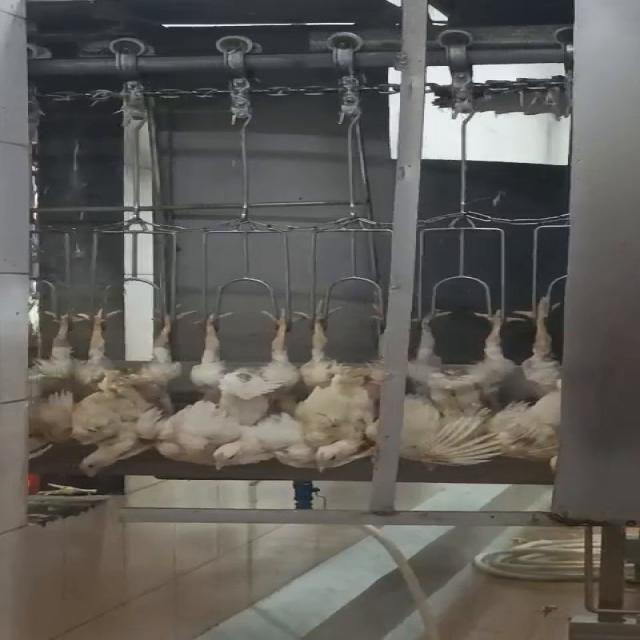chicken: (61, 300, 198, 479), (172, 303, 312, 471), (402, 302, 517, 474), (295, 298, 400, 478), (11, 307, 85, 468), (508, 296, 570, 478)
